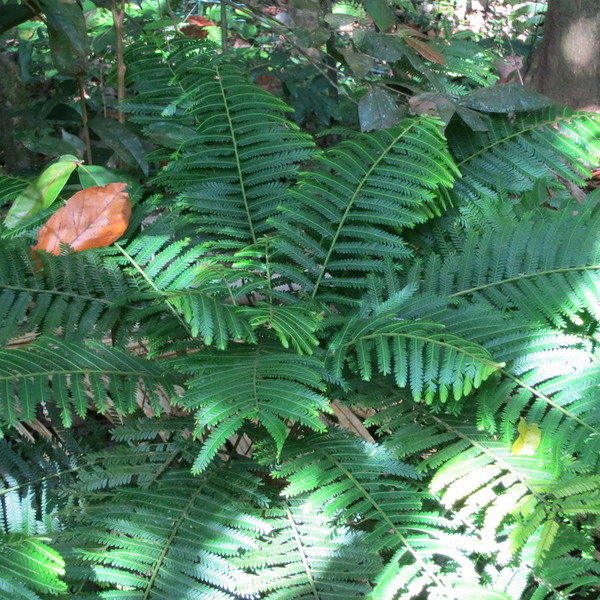obstacle: (91, 55, 573, 589)
